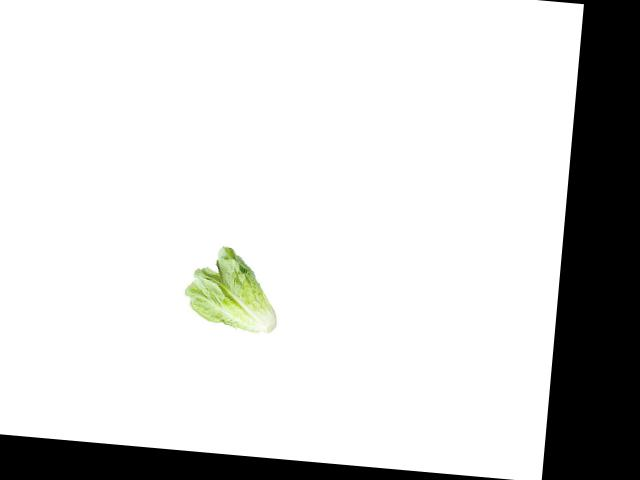lettuce: (181, 239, 288, 342)
